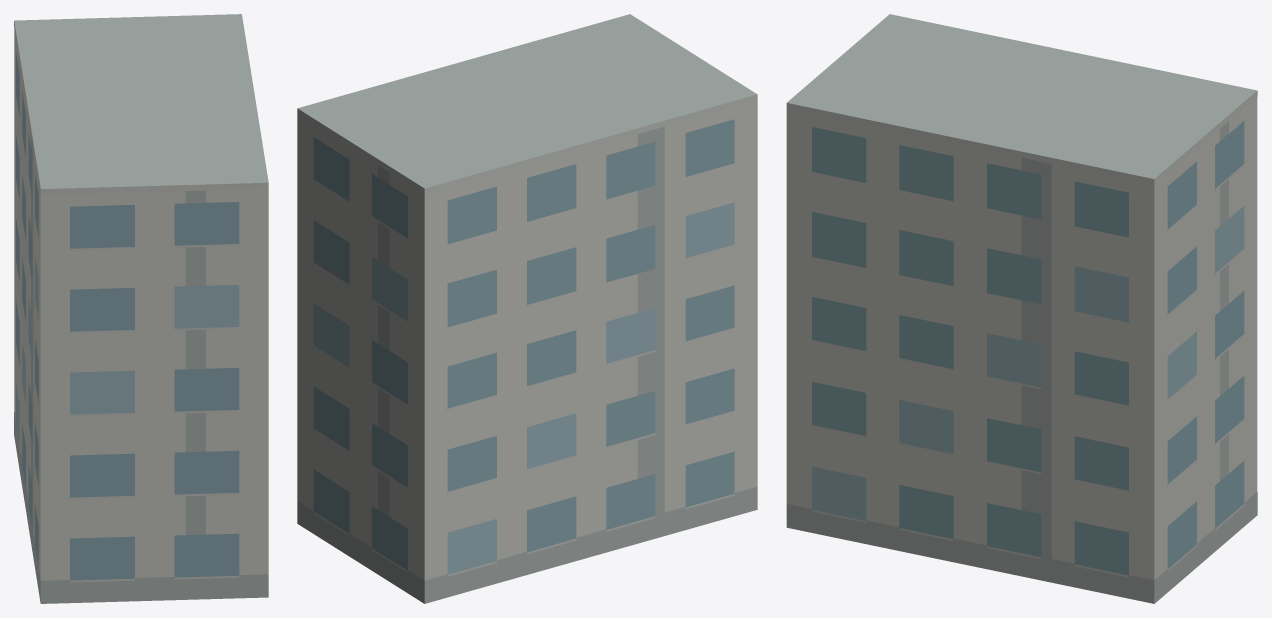
File: survey-upis-32885362.glb
The picture shows the model from 3 angles, left to right: view 1: azimuth 30°, elevation 25°; view 2: azimuth 150°, elevation 25°; view 3: azimuth 270°, elevation 25°; orthographic projection. The views are drawn at different scales.
Parts seen in each view (by area): view 1: survey-upis-32885362.tmp; view 2: survey-upis-32885362.tmp; view 3: survey-upis-32885362.tmp.
Boxes of the visible parts, box(x1,y1,x2,y2) form: survey-upis-32885362.tmp: box(14, 14, 268, 603); survey-upis-32885362.tmp: box(297, 14, 757, 603); survey-upis-32885362.tmp: box(786, 14, 1257, 603).
Bounding box in the file's own units: 14.09 × 16.9 × 16.98.
